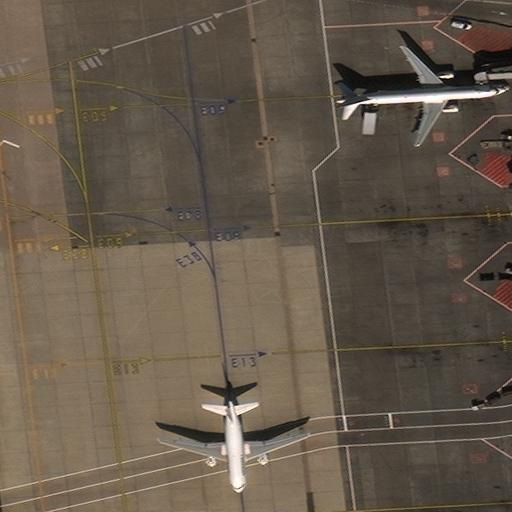Medium Civil Transport: (332, 46, 505, 146), (158, 398, 310, 493)
